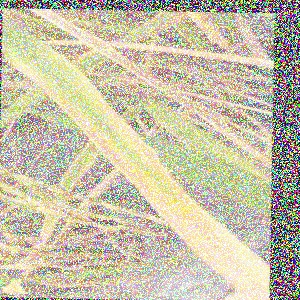Leaf_Blast: (64, 75, 156, 188)
